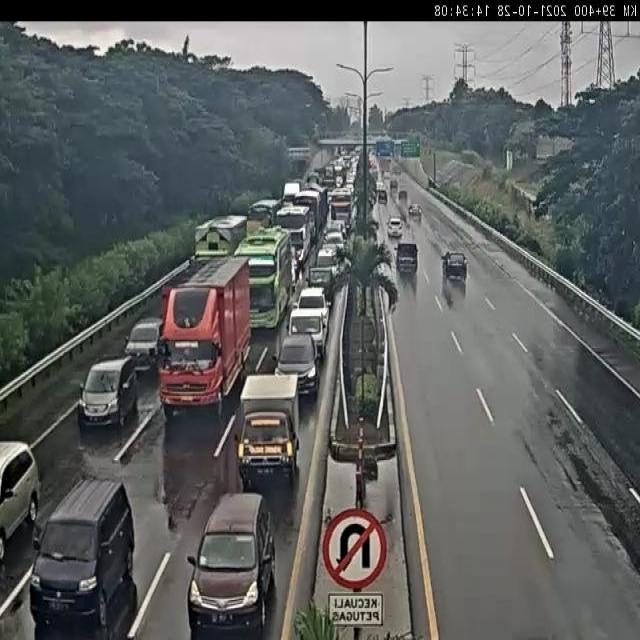Bus: (240, 226, 292, 330)
Car: (27, 476, 135, 626), (188, 495, 274, 640), (274, 334, 318, 396), (443, 251, 469, 277), (394, 243, 418, 271)
Truck: (158, 256, 252, 418), (235, 367, 301, 489)
Van: (80, 353, 136, 430)
